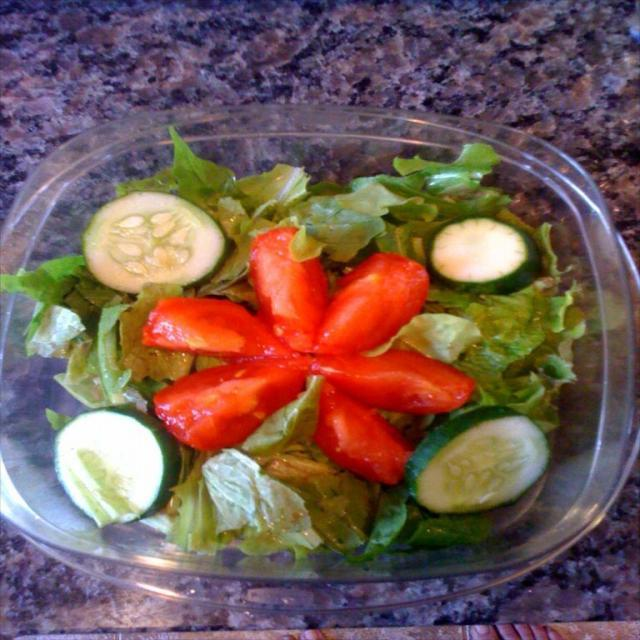Cucumber: (402, 403, 551, 511), (77, 191, 233, 294), (53, 404, 179, 524), (405, 409, 551, 511), (51, 414, 187, 522), (425, 223, 543, 298), (431, 218, 543, 292)
